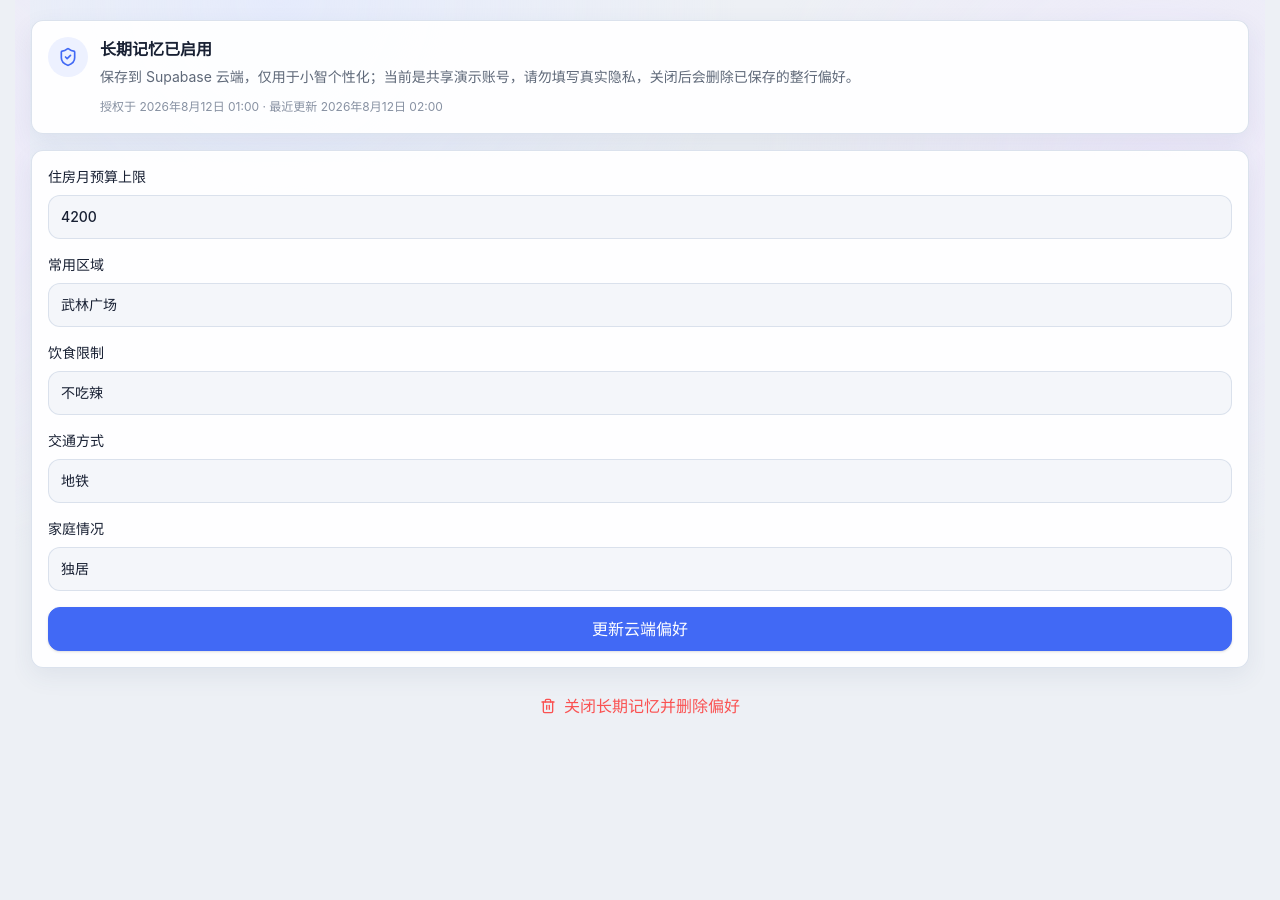
Scenario: PreferencesExperience › deletes saved preferences only after a danger confirmation
This screenshot has width=1280, height=900.
Click the button "关闭长期记忆并删除偏好" at [640, 706], box [31,684,1249,728]
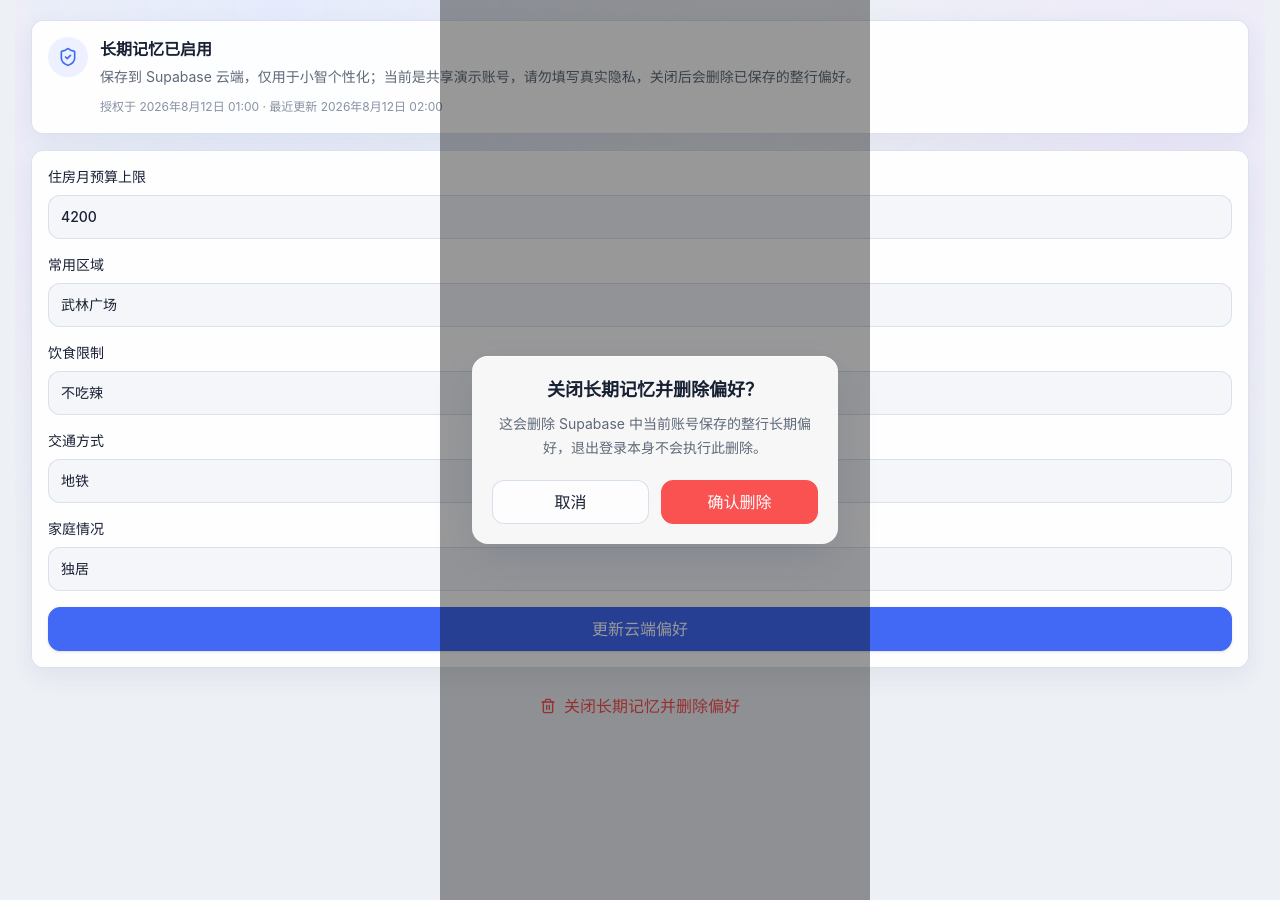
Expected: the dialog "关闭长期记忆并删除偏好？" is shown, [472,356,838,544]
Click the button "确认删除" at [740, 502], box [661,480,818,524]
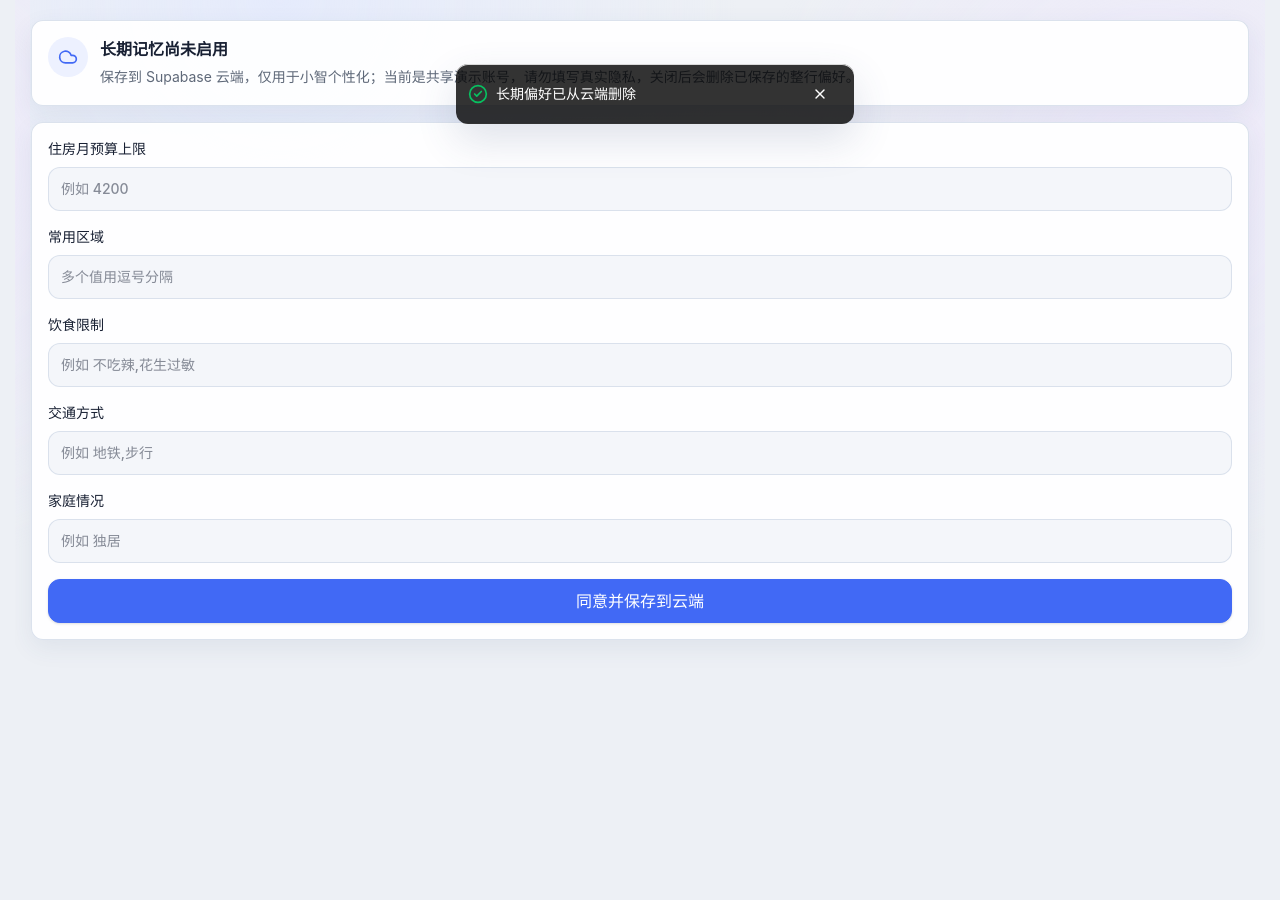
Expected: the message "长期偏好已从云端删除" is shown, [456,64,854,124]
